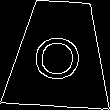O_N: (33, 27, 85, 81)
